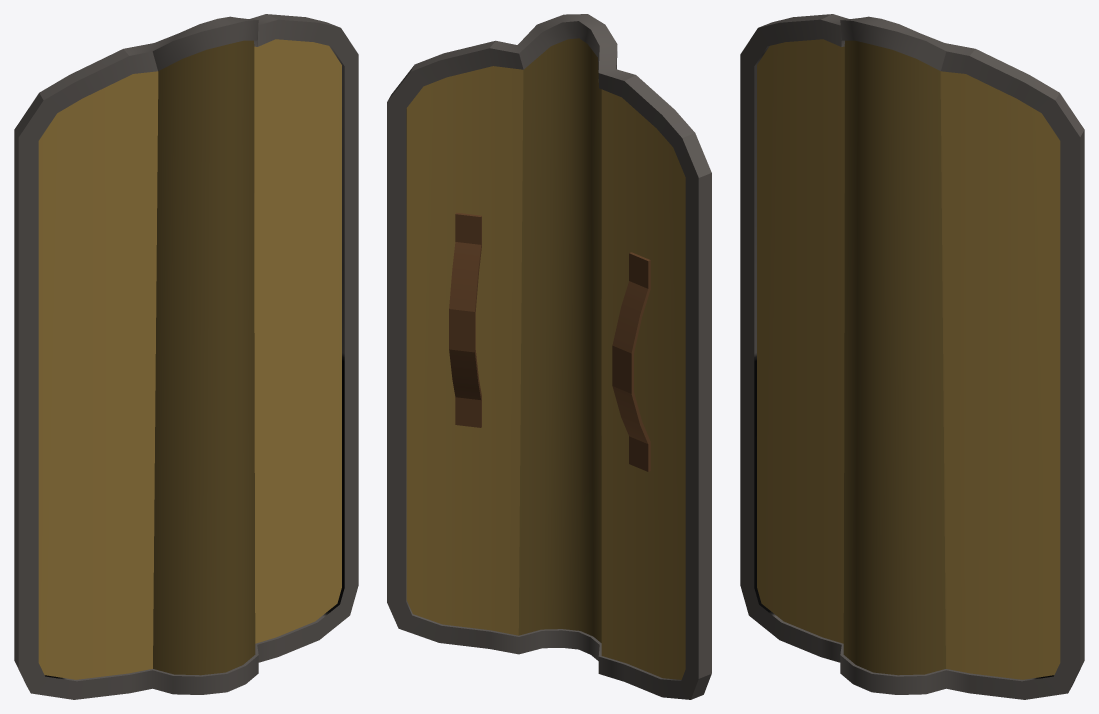
Rendered from Pavise Shield_Yellow.fbx.
3 renders of one model, left to right at view 1: azimuth 30°, elevation 25°; view 2: azimuth 150°, elevation 25°; view 3: azimuth 330°, elevation 25°, orthographic. The views are drawn at different scales.
Visible parts, largest first — view 1: Pavise Shield_Yellow_Baked; view 2: Pavise Shield_Yellow_Baked; view 3: Pavise Shield_Yellow_Baked.
Boxes of the visible parts, x1,y1,x2,y2 form: Pavise Shield_Yellow_Baked: (14, 14, 358, 699); Pavise Shield_Yellow_Baked: (387, 14, 711, 699); Pavise Shield_Yellow_Baked: (740, 14, 1084, 699).
Size of the model in its own units: 65.21 by 122 by 16.93.
1 material, 1 textured.
